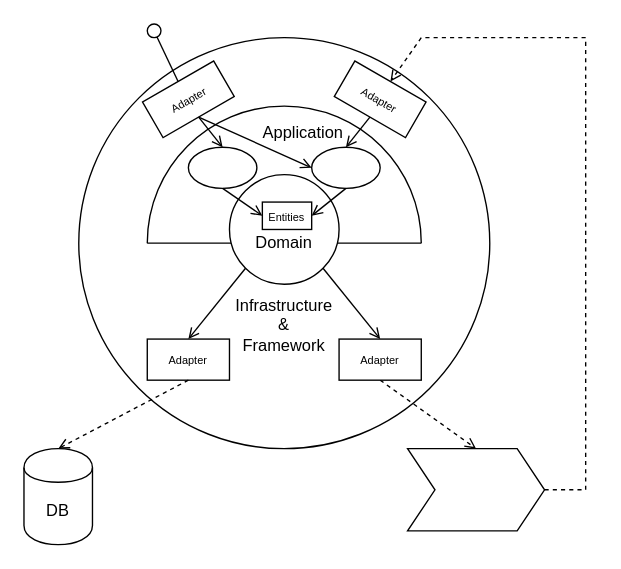
Some shapes in this 621 by 569 pixel diagram are drawn without their labels. Each missing label, with the box of its shape:
Event Bus: (406, 447, 545, 531)
Use Case 1: (187, 146, 257, 188)
Use Case N: (310, 146, 380, 188)
